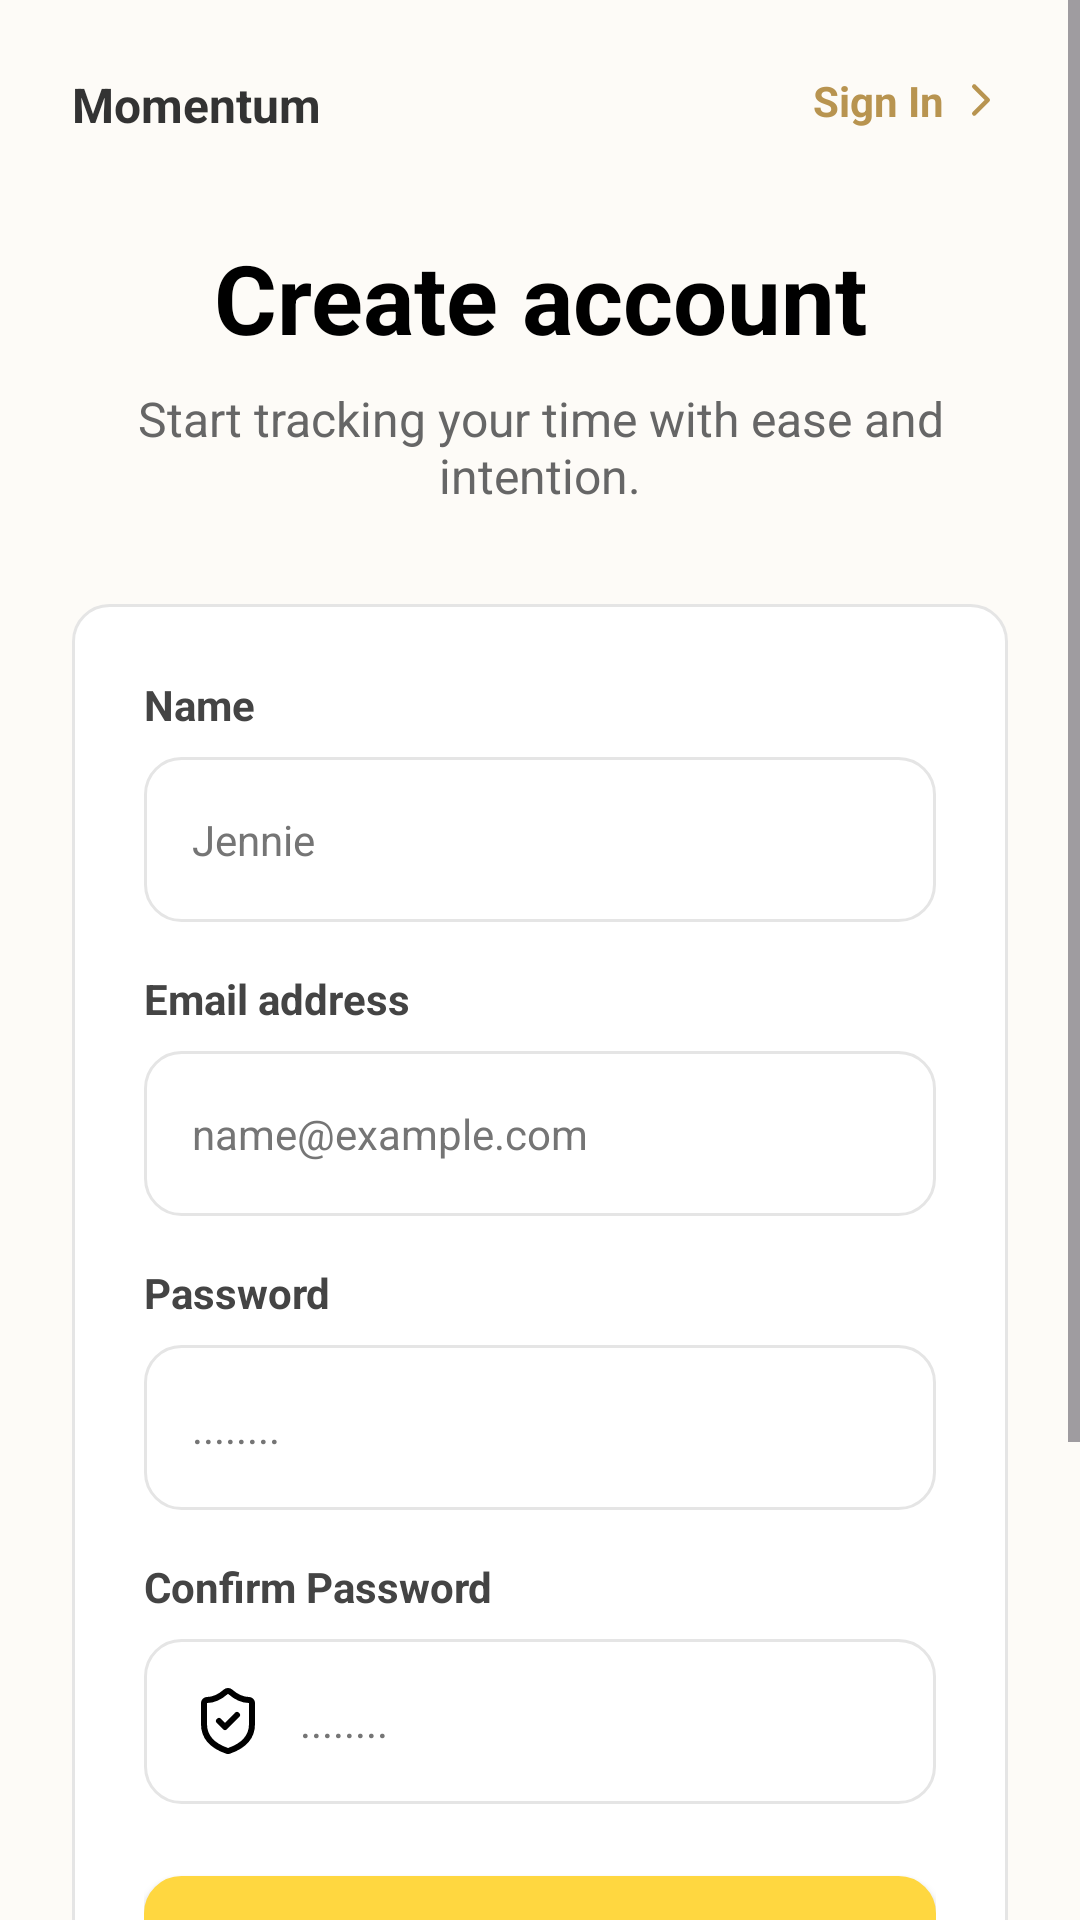

Screen size 1080w x 1920h. Icon name, then its box in pixels as {"x1": x1, "y1": y1, "x2": x2, "y2": y2}:
chevronright: {"x1": 972, "y1": 84, "x2": 990, "y2": 116}
